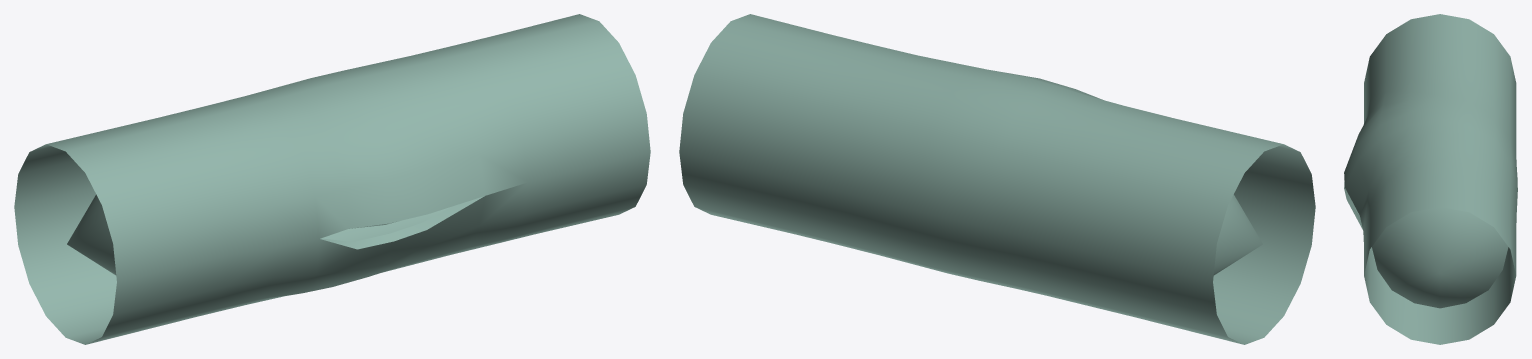
Rendered from PipeLarge_BrokenStraight_01.fbx.
The picture shows the model from 3 angles, left to right: view 1: azimuth 30°, elevation 25°; view 2: azimuth 150°, elevation 25°; view 3: azimuth 270°, elevation 25°; orthographic projection. The views are drawn at different scales.
Visible parts, largest first — view 1: PipeLarge_BrokenStraight_01.001; view 2: PipeLarge_BrokenStraight_01.001; view 3: PipeLarge_BrokenStraight_01.001.
Boxes of the visible parts, x1=… form: PipeLarge_BrokenStraight_01.001: x1=14, y1=14, x2=650, y2=344; PipeLarge_BrokenStraight_01.001: x1=679, y1=14, x2=1315, y2=344; PipeLarge_BrokenStraight_01.001: x1=1344, y1=14, x2=1517, y2=344.
Bounding box in the file's own units: 0.6 × 0.2038 × 0.2283.
